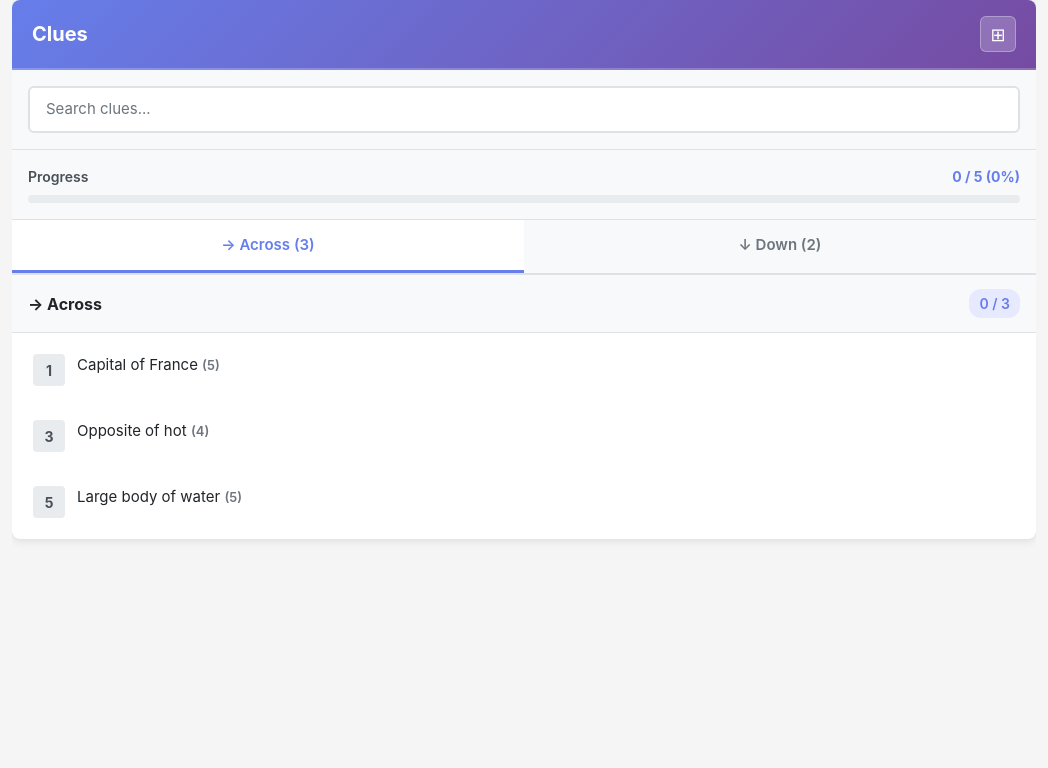
Test: CluePanel Component › Search Functionality › should show no results message when no clues match
The image size is (1048, 768).
# Type search query that matches nothing
Type "xyz123" into the field with test id "search-input".
click(524, 109); type("xyz123")  # box [28,86,1020,132]
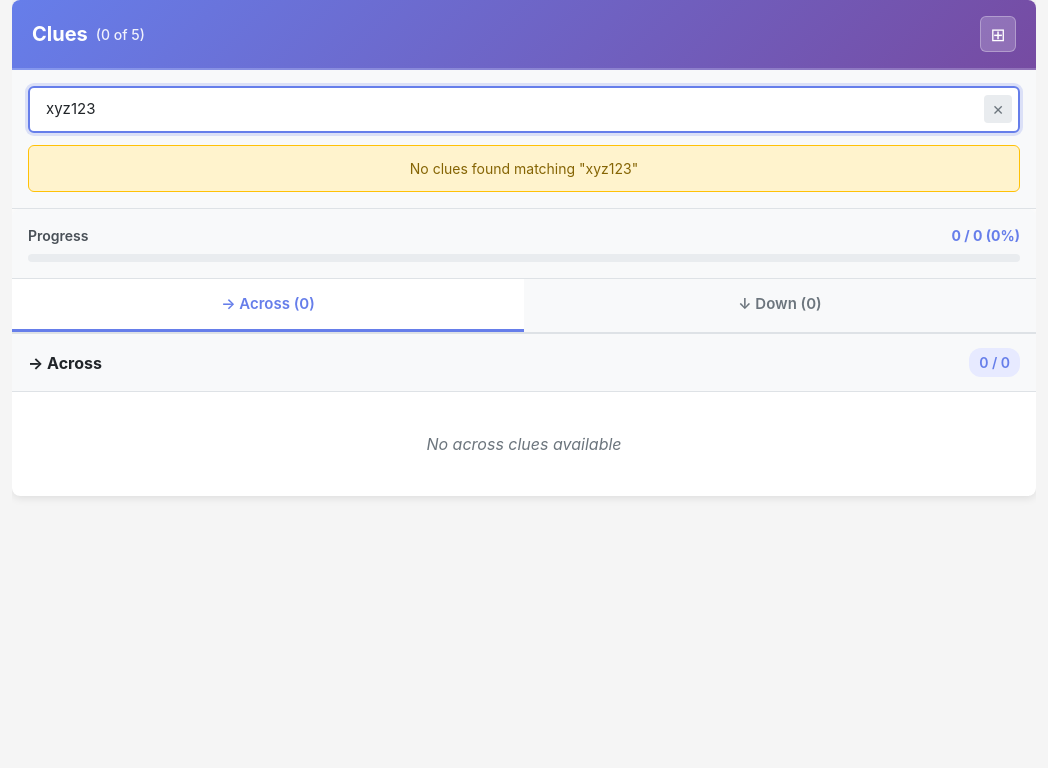
Expected: the text "No clues found matching \"xyz123\"" is shown, [28,144,1020,192]
